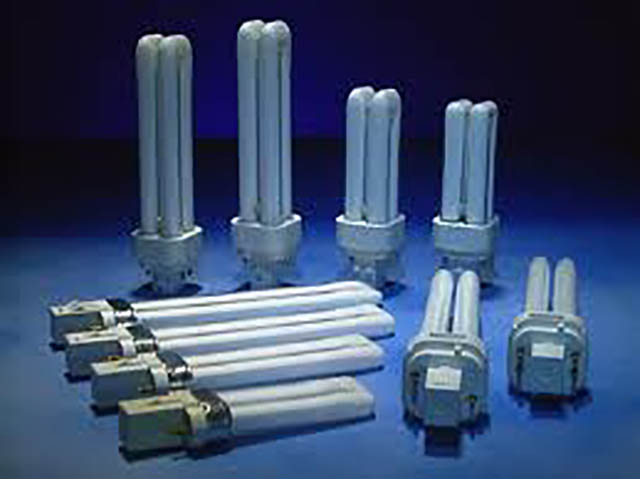Light_bulb: (132, 32, 212, 292), (228, 16, 306, 277), (505, 251, 594, 406), (407, 269, 491, 432), (429, 95, 502, 278), (337, 79, 406, 268)
